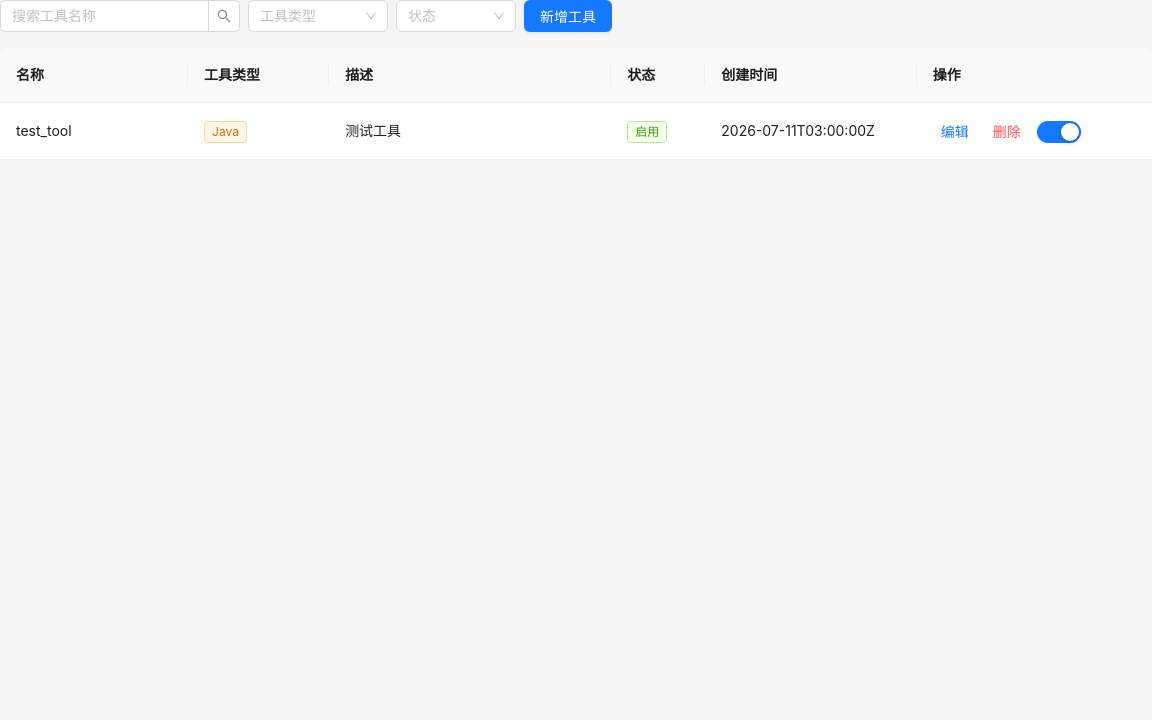
Test: ToolList JsonEditor 懒加载渲染 › 打开新增 Modal 且选择非 CUSTOM/MCP_HTTP 类型时 JsonEditor 懒加载不崩溃
Expected: the text "测试工具" is shown, left=329, top=103, right=611, bottom=160
Click the button "新增工具" at (568, 16), box left=524, top=0, right=612, bottom=32
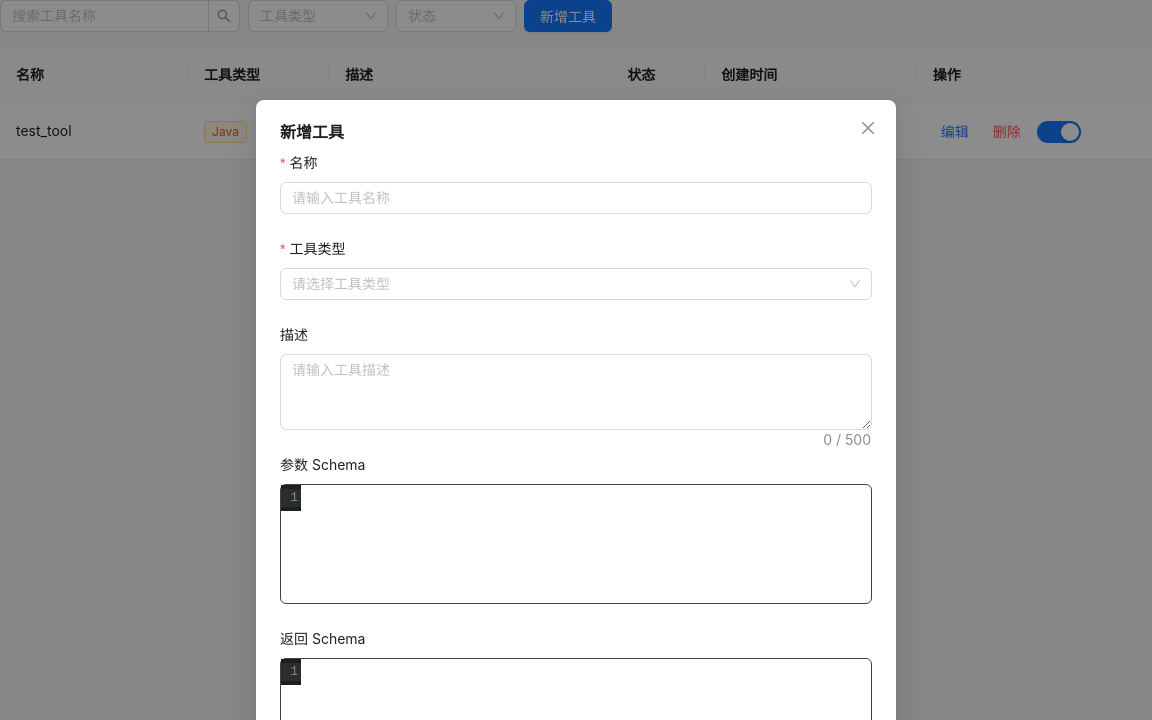
Expected: the element that starts with "新增工具" is shown, left=256, top=100, right=896, bottom=719
Expected: the element showing "请选择工具类型" is shown, left=280, top=268, right=872, bottom=300
Expected: the text "参数 Schema" is shown, left=280, top=454, right=380, bottom=476
